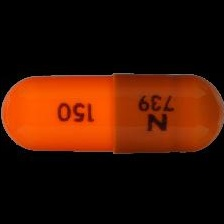68151-2985: (0, 0, 224, 224)
